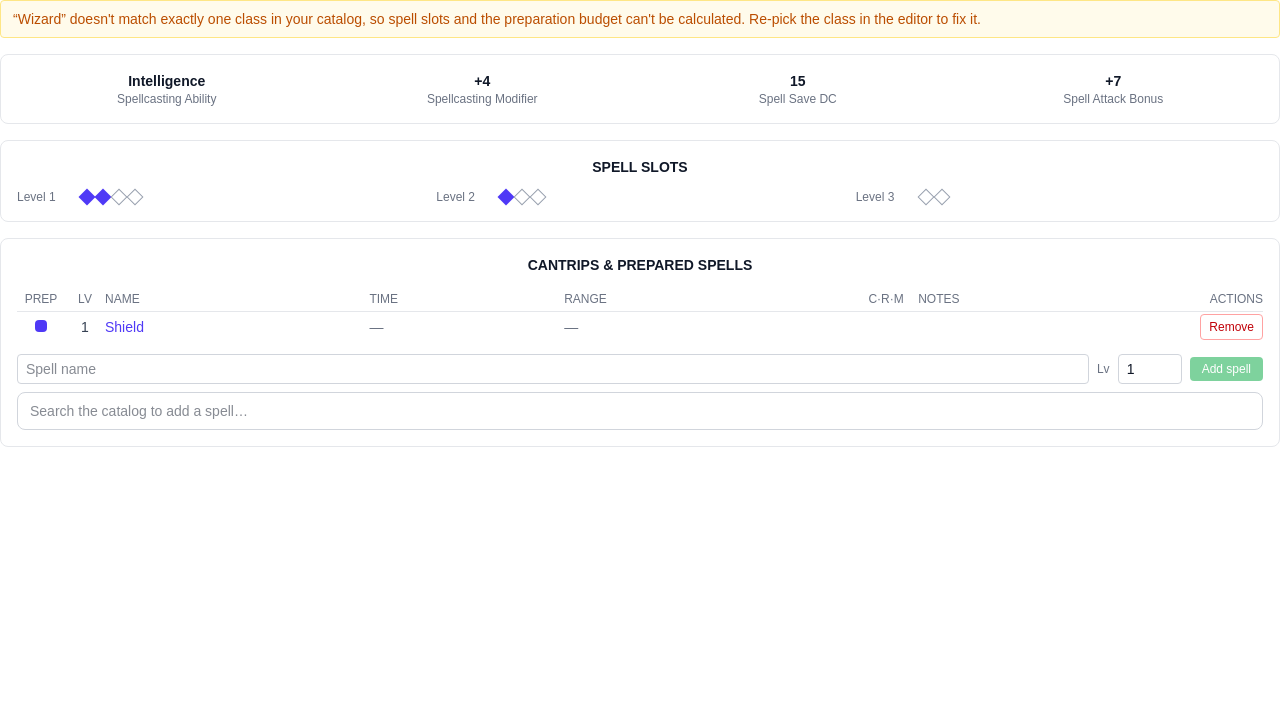
it: SpellcastingSection › spell-card popover (VEG-413) › lets the owner open the card too
Click the button with aria-label "View Shield details" at (124,327), box [105,317,144,337]
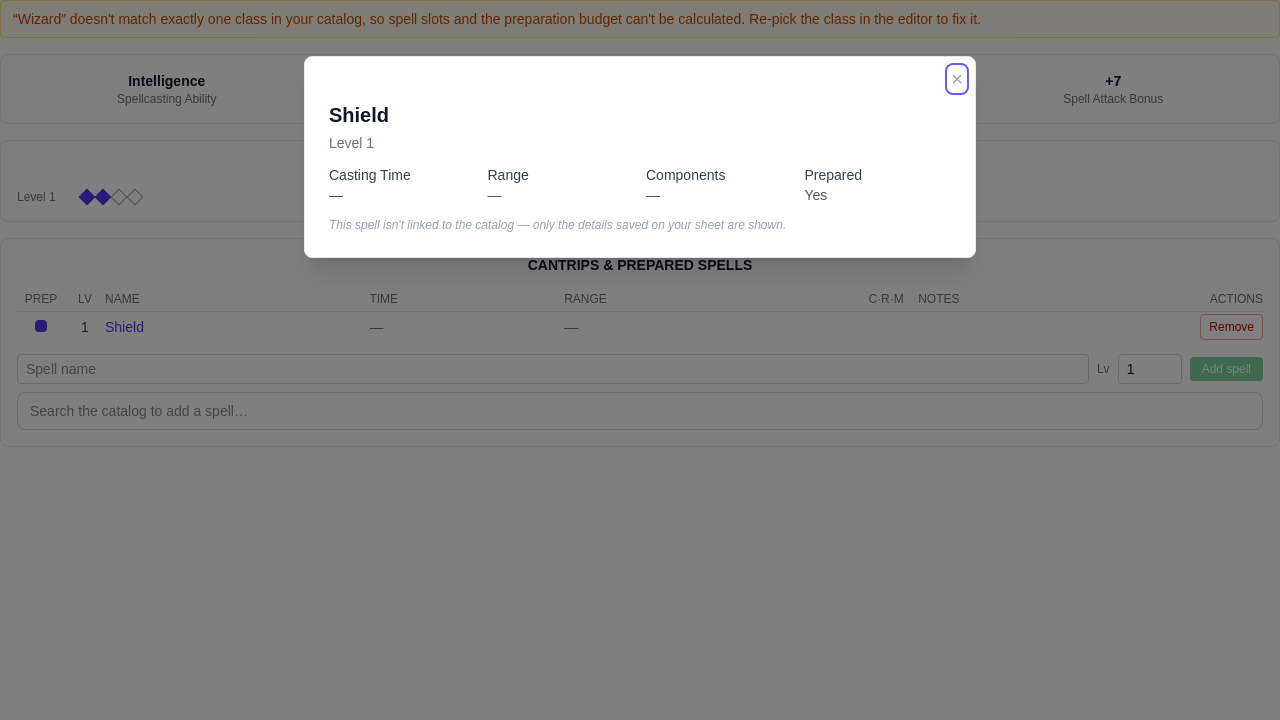
Now the dialog is shown, box [304,56,976,258]
